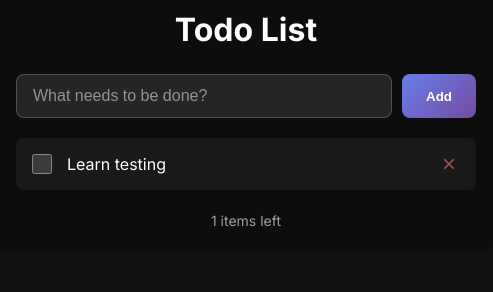
Test: TodoApp › Deleting Todos › deletes a todo when delete button is clicked
Expected: the text "Learn testing" is shown, [67,152,166,176]
Click the button named "delete" at (449, 164), box [434,150,464,178]
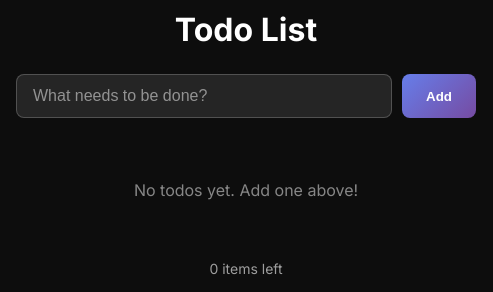
Expected: the text "Learn testing" is gone
